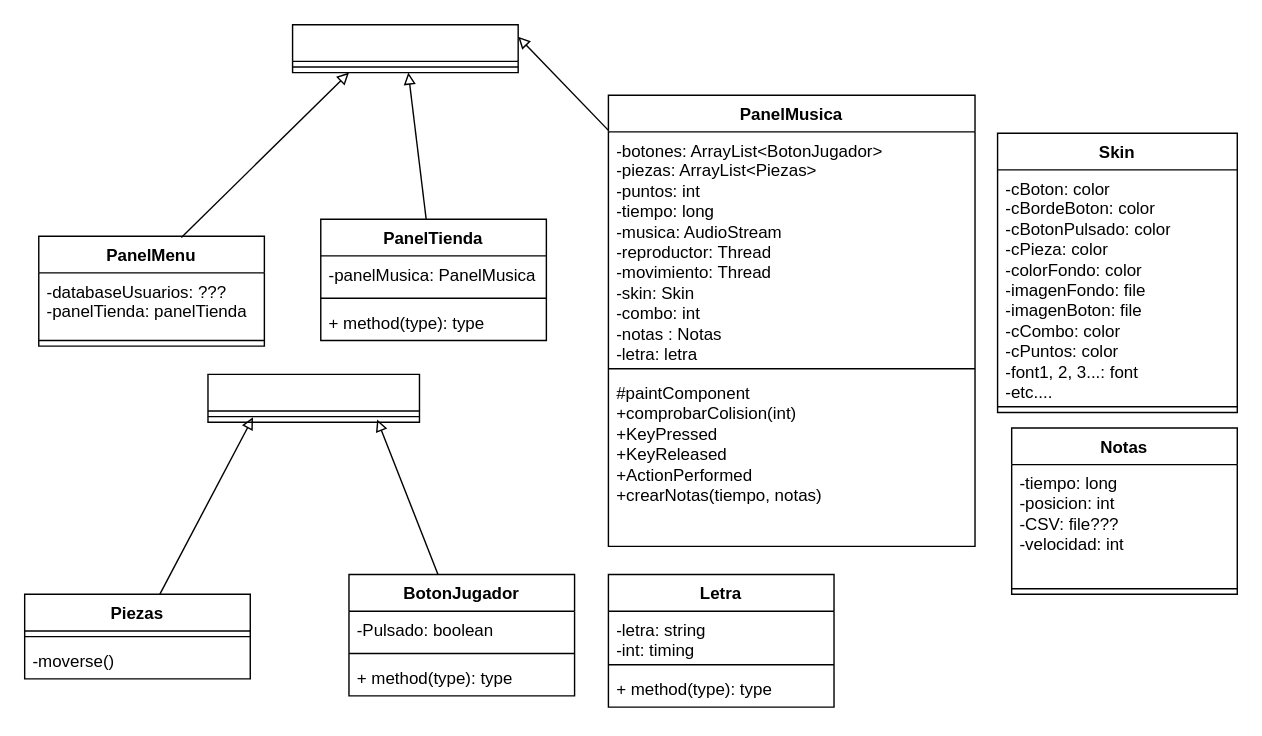
Image size: 1262x736. Some labels were removed from this diagram. The centre of each missing label's shape, as x and y in pixels:
"JPanel" belongs at point (404, 48).
"Rectangle" belongs at point (313, 397).
